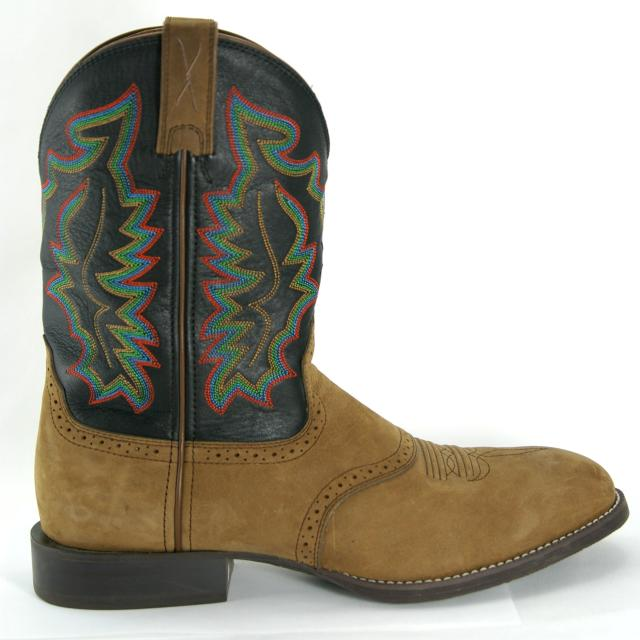boot: (22, 7, 631, 616)
